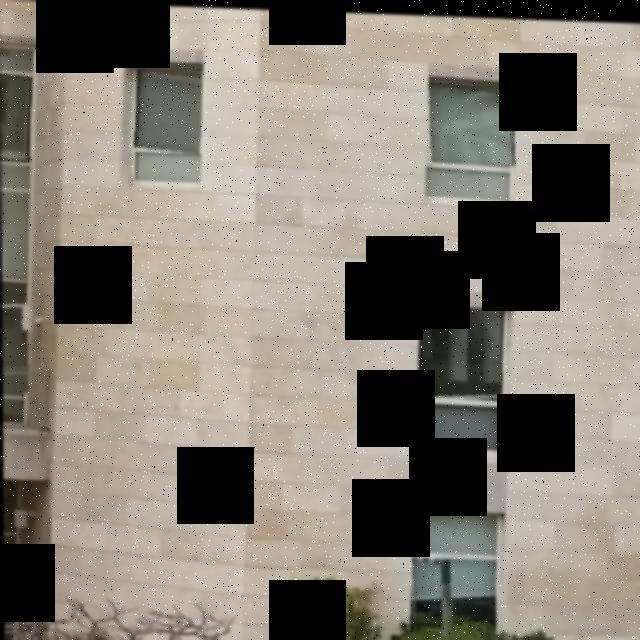Window: (417, 304, 513, 401), (419, 78, 519, 162), (408, 554, 496, 638), (128, 61, 205, 153), (1, 71, 34, 157), (2, 298, 29, 394)
